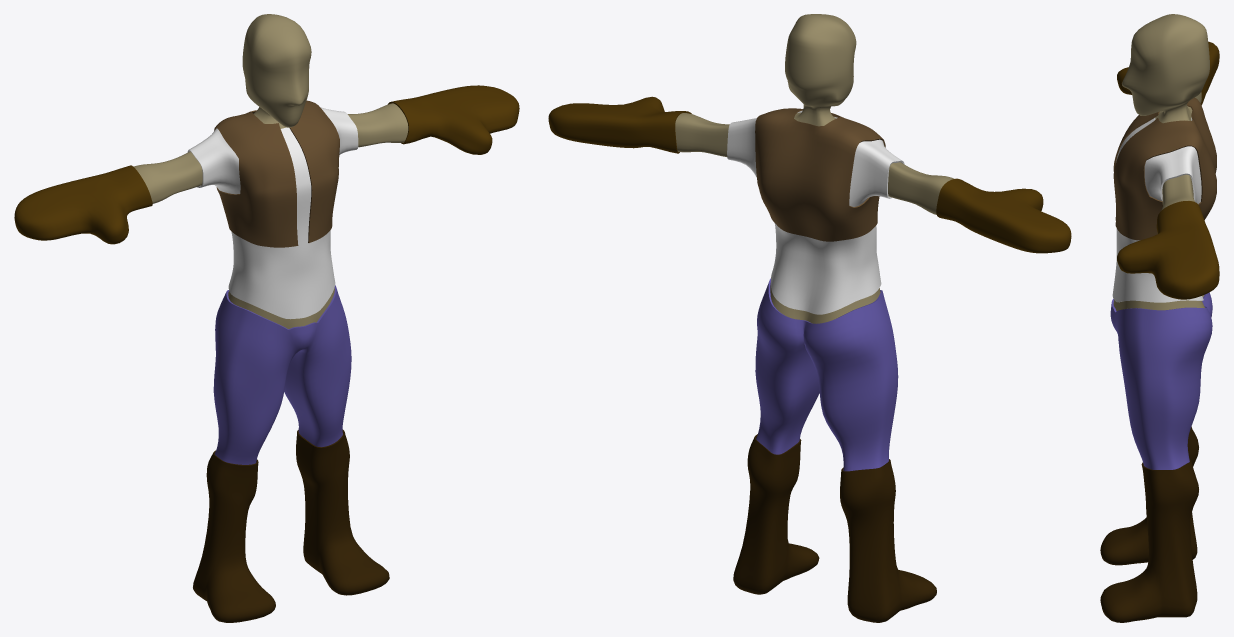
The model's file is Goon Hi poly.fbx.
3 renders of one model, left to right at view 1: azimuth 30°, elevation 25°; view 2: azimuth 150°, elevation 25°; view 3: azimuth 270°, elevation 25°, orthographic. The views are drawn at different scales.
Visible parts, largest first — view 1: Pants, Boots, Gloves, Vest, Shirt, Hi_poly_body; view 2: Pants, Boots, Vest, Gloves, Hi_poly_body, Shirt; view 3: Pants, Boots, Hi_poly_body, Vest, Gloves, Shirt.
Part boxes in pixels (x1=…): Pants: x1=213, y1=285, x2=351, y2=464; Boots: x1=193, y1=429, x2=389, y2=622; Gloves: x1=14, y1=85, x2=519, y2=244; Vest: x1=214, y1=100, x2=339, y2=247; Shirt: x1=187, y1=107, x2=358, y2=319; Hi_poly_body: x1=133, y1=14, x2=408, y2=329; Pants: x1=755, y1=278, x2=898, y2=471; Boots: x1=733, y1=434, x2=936, y2=622; Vest: x1=755, y1=108, x2=885, y2=241; Gloves: x1=548, y1=96, x2=1071, y2=253; Hi_poly_body: x1=675, y1=14, x2=954, y2=323; Shirt: x1=727, y1=110, x2=904, y2=314; Pants: x1=1110, y1=292, x2=1212, y2=469; Boots: x1=1100, y1=426, x2=1198, y2=622; Hi_poly_body: x1=1113, y1=14, x2=1209, y2=310; Vest: x1=1113, y1=97, x2=1216, y2=240; Gloves: x1=1117, y1=41, x2=1219, y2=299; Shirt: x1=1112, y1=117, x2=1203, y2=302.
Size of the model in its own units: 2.76 by 2.99 by 0.5685.
